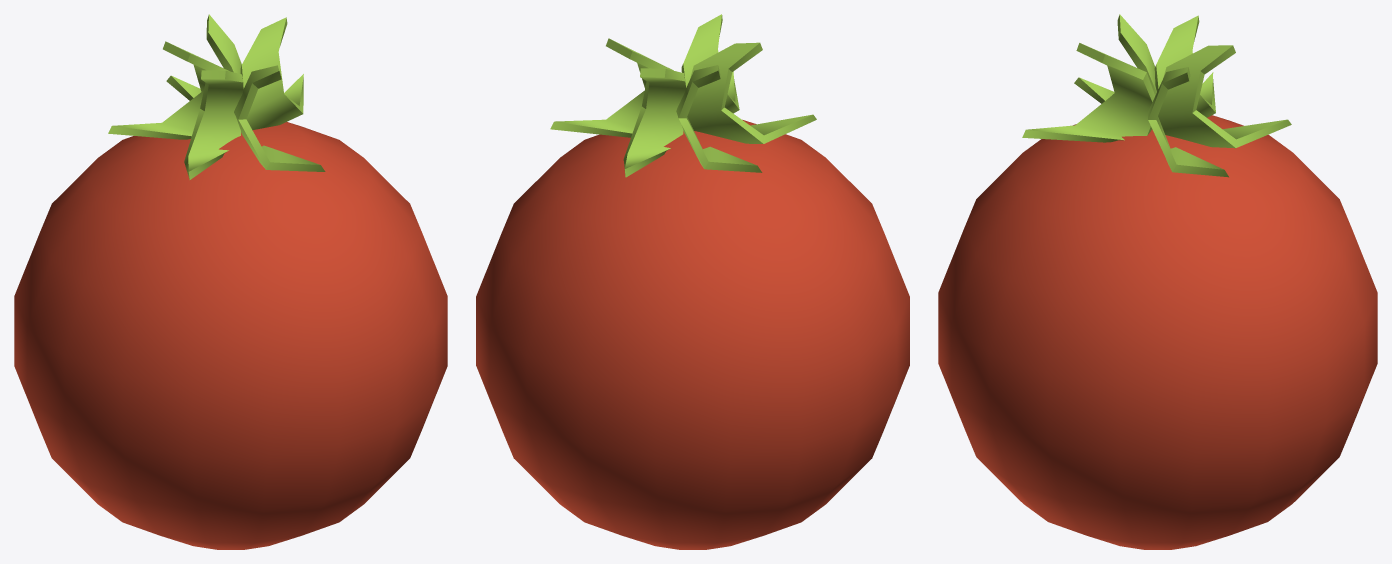
Rendered from tomato.glb.
The picture shows the model from 3 angles, left to right: view 1: azimuth 30°, elevation 25°; view 2: azimuth 150°, elevation 25°; view 3: azimuth 270°, elevation 25°; orthographic projection.
Parts seen in each view (by area): view 1: Sphere001, Plane002; view 2: Sphere001, Plane002; view 3: Sphere001, Plane002.
Part boxes in pixels (bbox=[...]): Sphere001: bbox=[14, 122, 447, 549]; Plane002: bbox=[108, 14, 325, 179]; Sphere001: bbox=[476, 119, 909, 549]; Plane002: bbox=[550, 14, 816, 177]; Sphere001: bbox=[938, 115, 1377, 549]; Plane002: bbox=[1022, 14, 1291, 177].
Size of the model in its own units: 0.0116 by 0.0146 by 0.0118.
